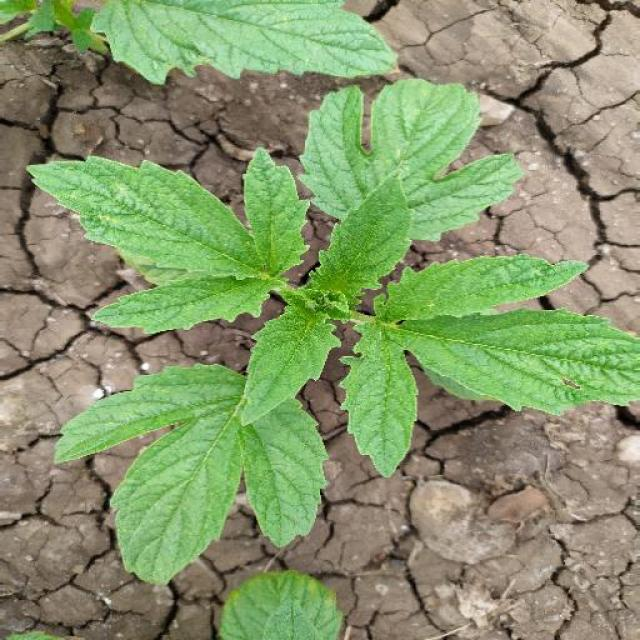crop: (32, 78, 638, 592)
